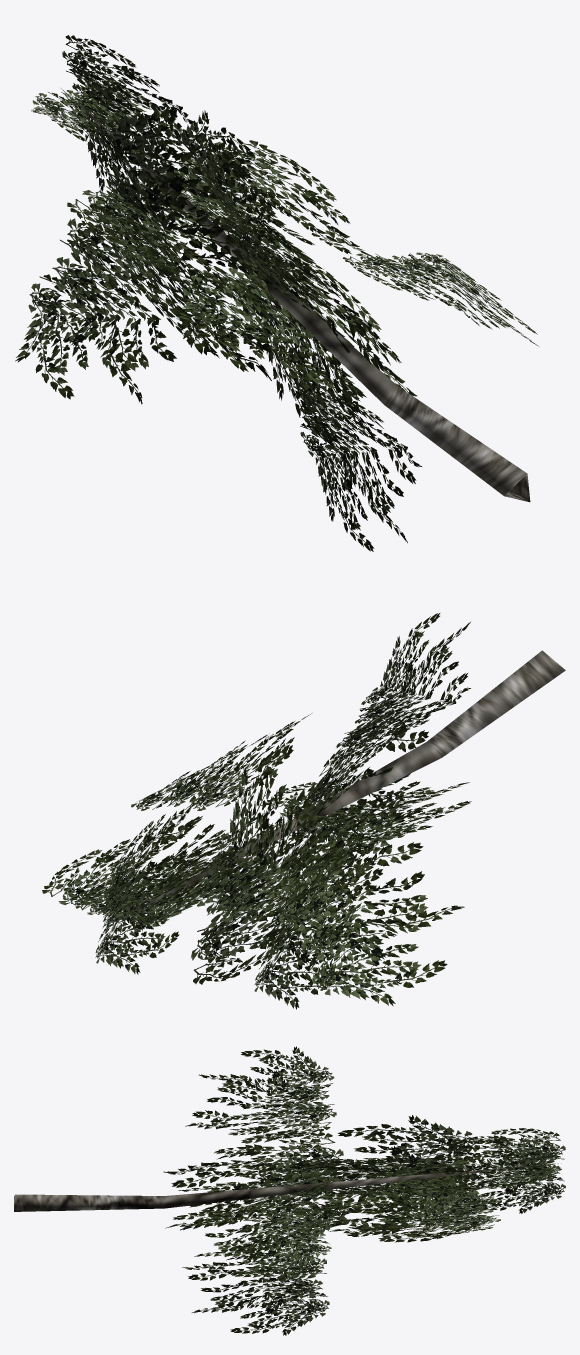
The model's file is MEP_Birch_01_g_LOD_02.fbx.
The picture shows the model from 3 angles, top to bottom: view 1: azimuth 30°, elevation 25°; view 2: azimuth 150°, elevation 25°; view 3: azimuth 270°, elevation 25°; orthographic projection. The views are drawn at different scales.
Parts seen in each view (by area): view 1: MEP_Birch_01_g_LOD_02; view 2: MEP_Birch_01_g_LOD_02; view 3: MEP_Birch_01_g_LOD_02.
Boxes of the visible parts, left/top/right/bottom form: MEP_Birch_01_g_LOD_02: left=15, top=35, right=538, bottom=551; MEP_Birch_01_g_LOD_02: left=42, top=613, right=565, bottom=1009; MEP_Birch_01_g_LOD_02: left=14, top=1046, right=565, bottom=1335.
Size of the model in its own units: 6.66 by 7.24 by 13.53.
